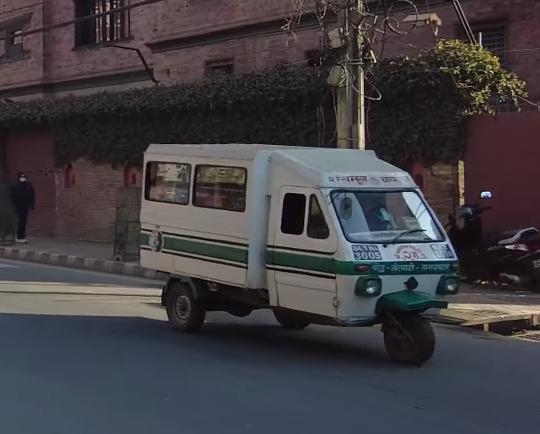tempo: (136, 133, 466, 370)
